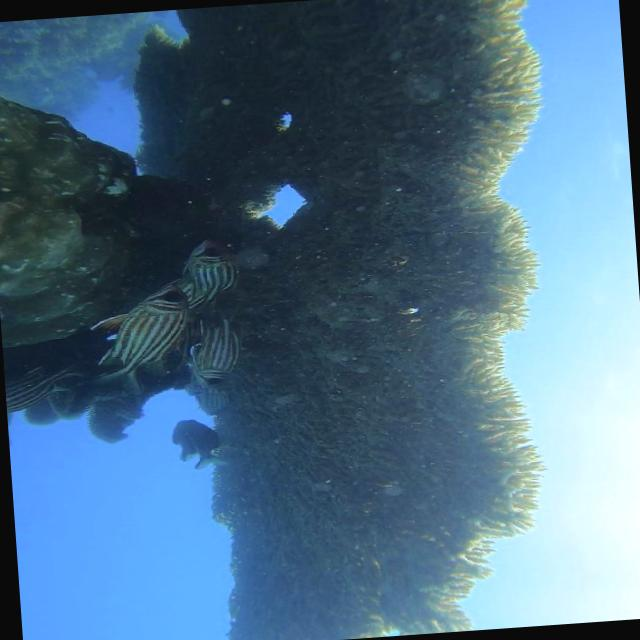Asker Baligi: (92, 283, 208, 380), (172, 232, 248, 306), (182, 316, 258, 386)
